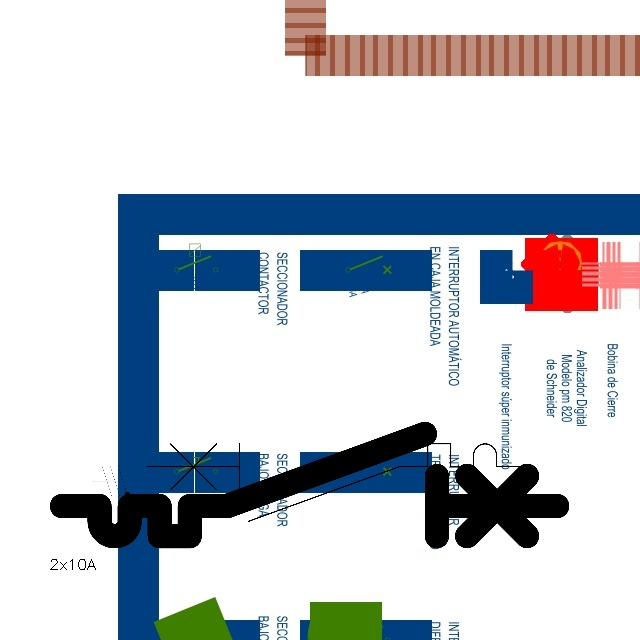interruptor_termomagnetico: (49, 421, 570, 549), (137, 434, 534, 531)
